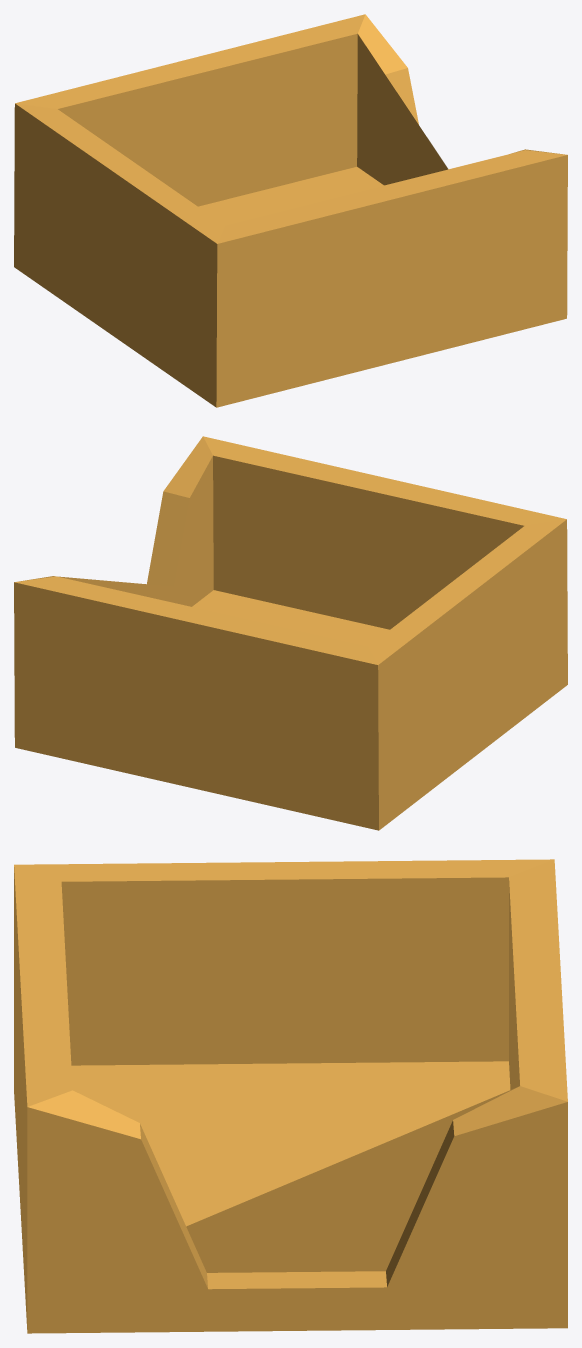
Rendered from apoc_SM_Item_Shop_Goods_02.gltf.
3 renders of one model, top to bottom at view 1: azimuth 30°, elevation 25°; view 2: azimuth 150°, elevation 25°; view 3: azimuth 270°, elevation 25°, orthographic. The views are drawn at different scales.
Parts seen in each view (by area): view 1: SM_Item_Shop_Goods_02; view 2: SM_Item_Shop_Goods_02; view 3: SM_Item_Shop_Goods_02.
Boxes of the visible parts, x1=… form: SM_Item_Shop_Goods_02: x1=14, y1=14, x2=567, y2=407; SM_Item_Shop_Goods_02: x1=14, y1=436, x2=567, y2=830; SM_Item_Shop_Goods_02: x1=14, y1=859, x2=567, y2=1333.
Size of the model in its own units: 0.2129 by 0.092 by 0.2021.
Materials: 1 (1 with a texture image).
